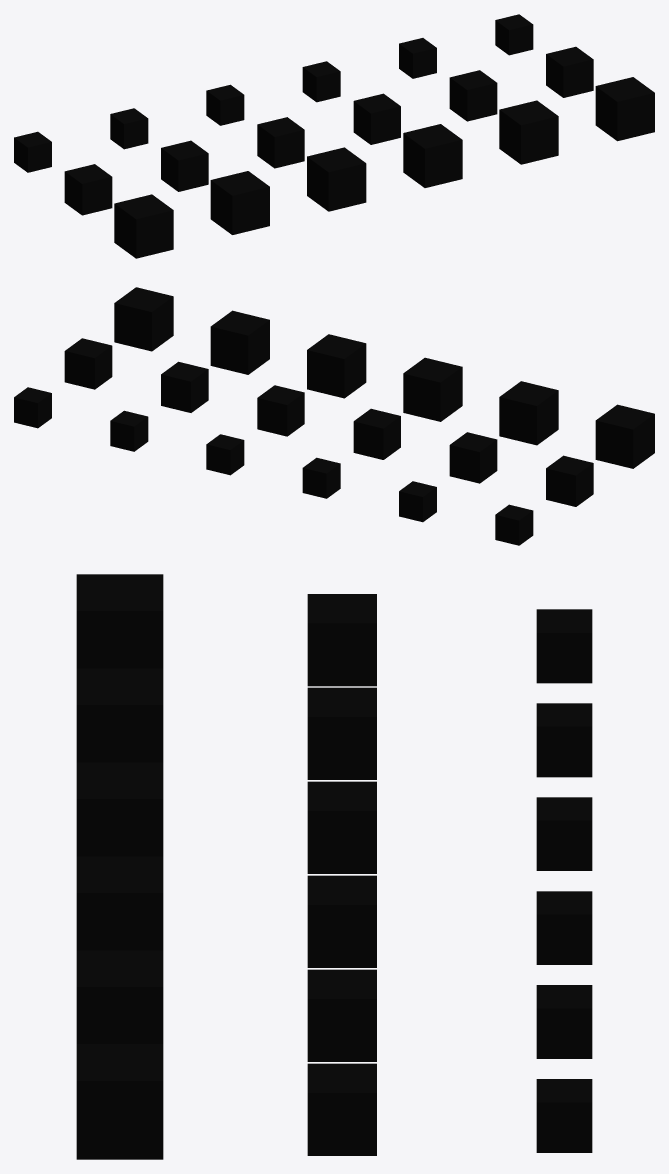
The model's file is FlowersRare.fbx.
3 renders of one model, top to bottom at view 1: azimuth 30°, elevation 25°; view 2: azimuth 150°, elevation 25°; view 3: azimuth 270°, elevation 25°, orthographic. The views are drawn at different scales.
Visible parts, largest first — view 1: VenusFlytrap3, Protea3, Strelitzia3, Lotus3, Passionflower3, Rafflesia3, Strelitzia2, Lotus2, Protea2, VenusFlytrap2, Rafflesia2, Passionflower2 (+6 smaller); view 2: Rafflesia3, Lotus3, VenusFlytrap3, Passionflower3, Strelitzia3, Protea3, VenusFlytrap2, Rafflesia2, Passionflower2, Protea2, Strelitzia2, Lotus2 (+6 smaller); view 3: VenusFlytrap3, Passionflower3, Protea3, Rafflesia3, Strelitzia3, Lotus3, VenusFlytrap2, Lotus2, Passionflower2, Protea2, Rafflesia2, Strelitzia2 (+6 smaller).
Boxes of the visible parts, x1,y1,x2,y2 form: VenusFlytrap3: [595, 77, 654, 141]; Protea3: [307, 147, 366, 211]; Strelitzia3: [114, 194, 173, 258]; Lotus3: [499, 100, 558, 164]; Passionflower3: [403, 124, 462, 187]; Rafflesia3: [210, 171, 269, 234]; Strelitzia2: [64, 164, 112, 215]; Lotus2: [449, 70, 497, 121]; Protea2: [257, 117, 304, 168]; VenusFlytrap2: [546, 46, 593, 97]; Rafflesia2: [161, 140, 208, 191]; Passionflower2: [353, 93, 400, 144]; Rafflesia3: [499, 381, 558, 445]; Lotus3: [210, 310, 269, 374]; VenusFlytrap3: [114, 287, 173, 351]; Passionflower3: [307, 334, 366, 398]; Strelitzia3: [595, 404, 654, 468]; Protea3: [403, 357, 462, 421]; VenusFlytrap2: [64, 338, 112, 389]; Rafflesia2: [449, 432, 497, 483]; Passionflower2: [257, 385, 304, 436]; Protea2: [353, 408, 400, 459]; Strelitzia2: [546, 455, 593, 506]; Lotus2: [161, 361, 208, 412]; VenusFlytrap3: [76, 1044, 163, 1159]; Passionflower3: [76, 856, 163, 950]; Protea3: [76, 762, 163, 856]; Rafflesia3: [76, 668, 163, 762]; Strelitzia3: [76, 574, 163, 668]; Lotus3: [76, 950, 163, 1043]; VenusFlytrap2: [307, 1063, 376, 1155]; Lotus2: [307, 969, 376, 1061]; Passionflower2: [307, 875, 376, 967]; Protea2: [307, 781, 376, 873]; Rafflesia2: [307, 687, 376, 779]; Strelitzia2: [307, 594, 376, 686].
Size of the model in its own units: 539 by 39.06 by 232.
